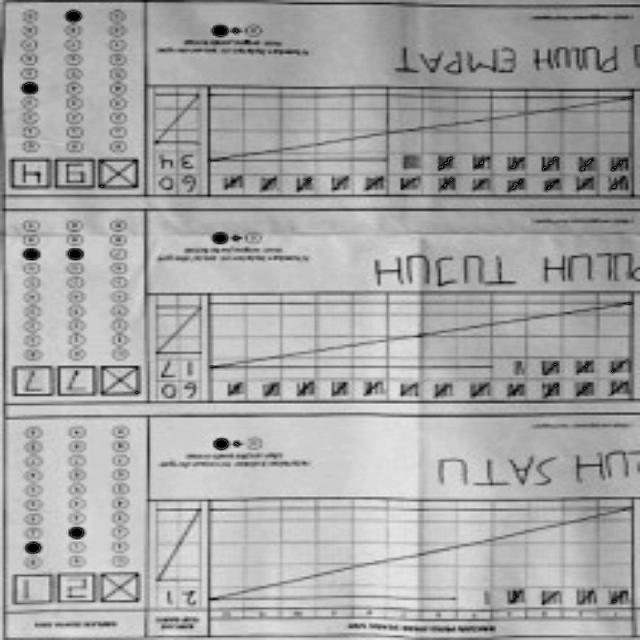Suara: (4, 150, 138, 198), (6, 573, 149, 607), (16, 366, 144, 394)
